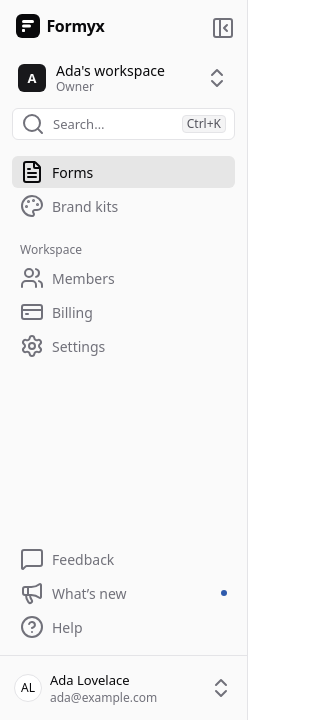
Scenario: Sidebar collapse › folds into a rail of icons with the button, and remembers it
Click the button named "Collapse sidebar" at coordinates (223, 28), box left=207, top=12, right=239, bottom=44
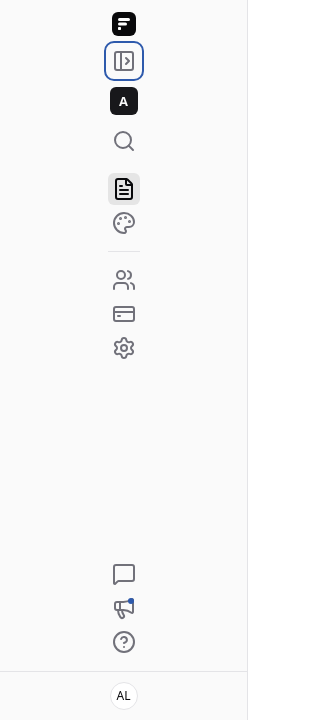
Expected: the button named "Expand sidebar" is collapsed
Expected: the link named "Forms" is empty, left=108, top=173, right=140, bottom=205
Expected: the button "workspace" is gone
Click the button named "Expand sidebar" at coordinates (124, 61), box left=108, top=45, right=140, bottom=77
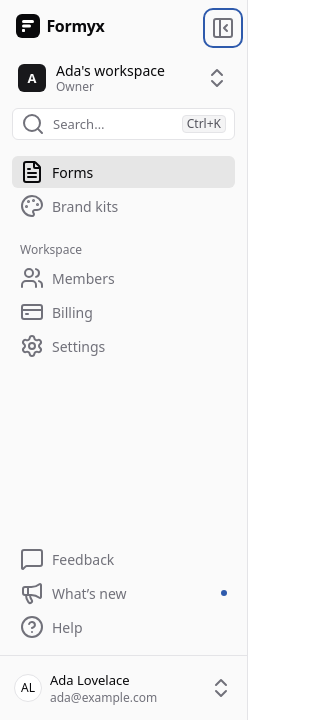
Expected: the element named "Sidebar" does not have attribute data-collapsed
Expected: the link "Forms" is shown, left=12, top=156, right=235, bottom=188
